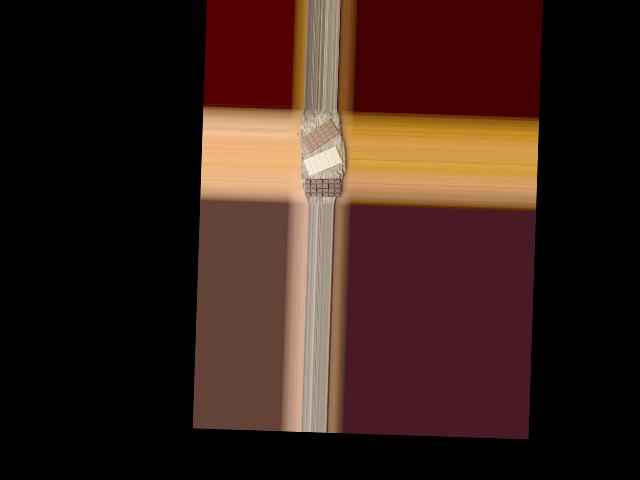chocolate: (304, 178, 342, 198)
